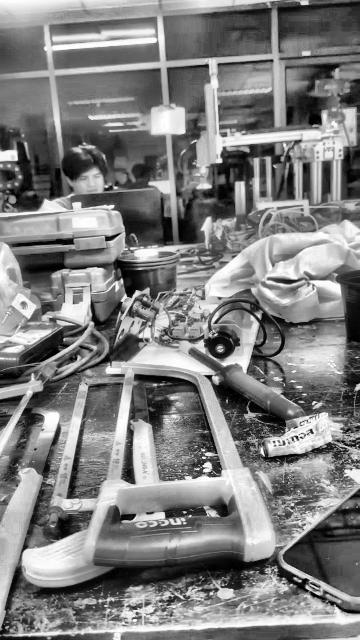pot: (119, 251, 179, 297), (339, 272, 359, 340)
